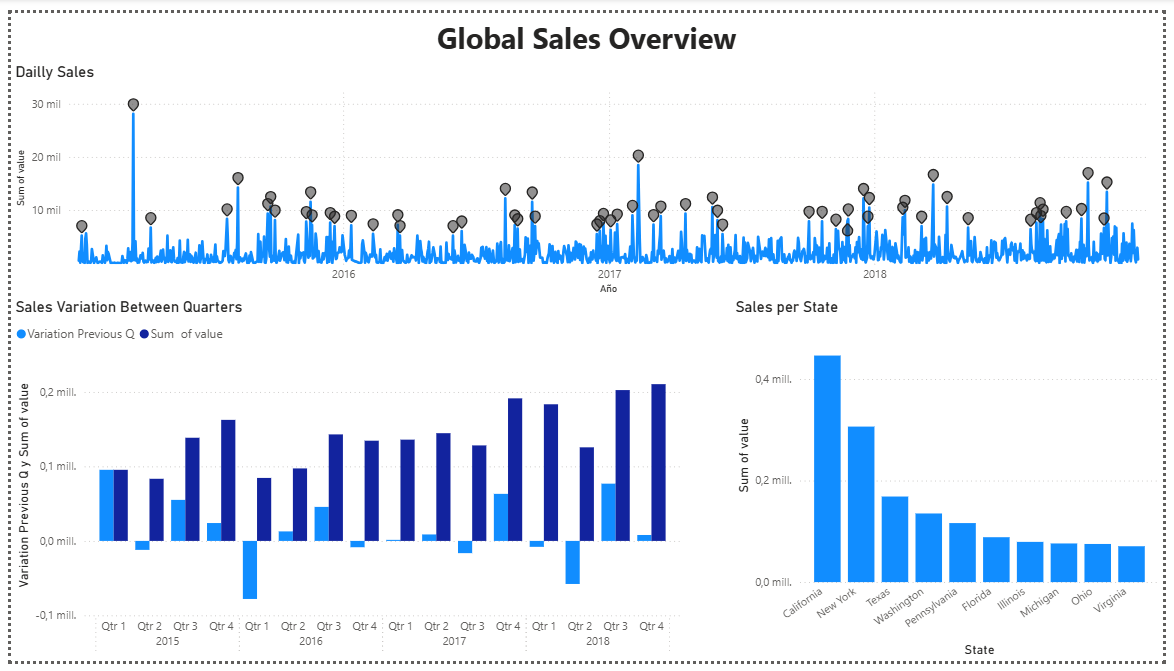

The dashboard page shown, as its layout file describes it:
{"tool":"powerbi","page":{"name":"Global Sales Overview","canvas":[1280,720],"ordinal":0},"visuals":[{"type":"clusteredColumnChart","fields":{"Category":["CalendarTable.Date.Variación.Jerarquía de fechas.Año","CalendarTable.Date.Variación.Jerarquía de fechas.Trimestre","CalendarTable.Date.Variación.Jerarquía de fechas.Mes","CalendarTable.Date.Variación.Jerarquía de fechas.Día"],"Y":["Medidas.Value Previous Q","Medidas.Sum  of value"]},"box":[0,316.7,748.3,403.3],"z":0},{"type":"columnChart","fields":{"Category":["Sales_table.State"],"Y":["Medidas.Sum  of value"]},"box":[800,316.7,480,403.3],"z":1000},{"type":"lineChart","fields":{"Category":["CalendarTable.Date.Variación.Jerarquía de fechas.Año","CalendarTable.Date.Variación.Jerarquía de fechas.Trimestre","CalendarTable.Date.Variación.Jerarquía de fechas.Mes","CalendarTable.Date.Variación.Jerarquía de fechas.Día"],"Y":["Medidas.Sum  of value"]},"box":[0,55,1270,261.7],"z":2000},{"type":"textbox","box":[468.3,0,343.3,53.3],"z":2001}]}

Visuals, with their boxes in screenshot pixels (x1, y1, x2, y2), scaled from the page's 1280x720 canvas onto the 1174x671 screenshot:
clusteredColumnChart - CalendarTable.Date.Variación.Jerarquía de fechas.Año x CalendarTable.Date.Variación.Jerarquía de fechas.Trimestre: [left=0, top=295, right=686, bottom=670]
columnChart - Sales_table.State x Medidas.Sum  of value: [left=734, top=295, right=1173, bottom=670]
lineChart - CalendarTable.Date.Variación.Jerarquía de fechas.Año x CalendarTable.Date.Variación.Jerarquía de fechas.Trimestre: [left=0, top=51, right=1165, bottom=295]
textbox: [left=430, top=0, right=744, bottom=50]
